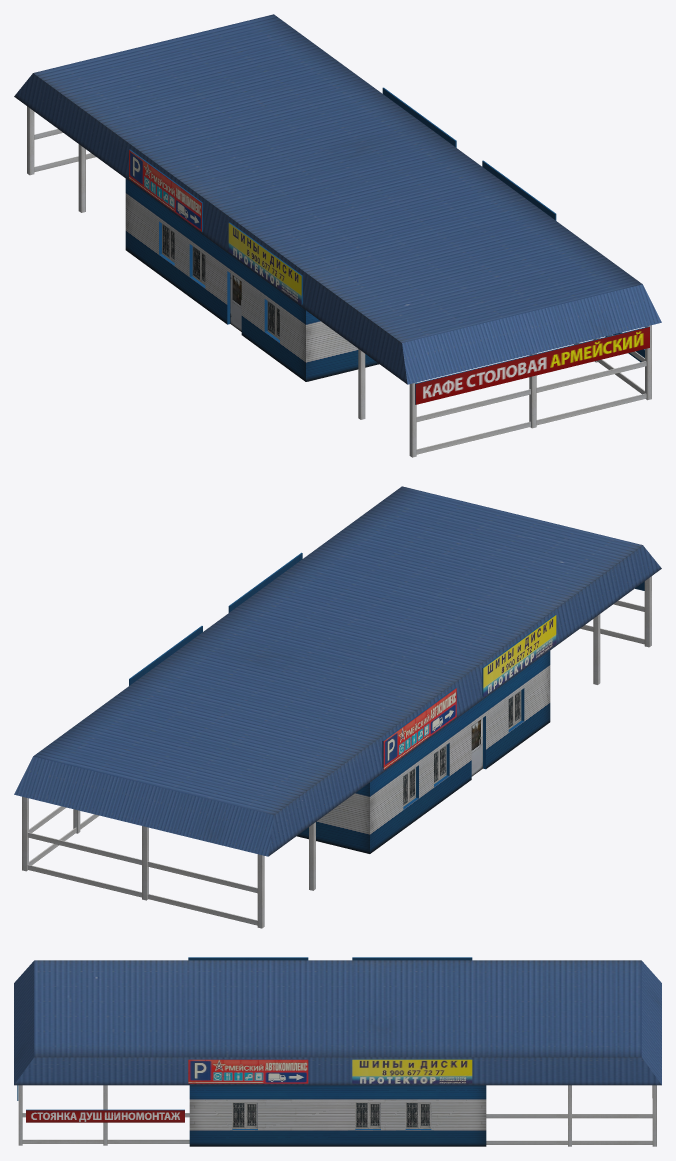
File: r254_stoyanka2.FBX
The picture shows the model from 3 angles, top to bottom: view 1: azimuth 30°, elevation 25°; view 2: azimuth 150°, elevation 25°; view 3: azimuth 270°, elevation 25°; orthographic projection. The views are drawn at different scales.
Parts seen in each view (by area): view 1: r254_stoyanka2; view 2: r254_stoyanka2; view 3: r254_stoyanka2.
Boxes of the visible parts, x1,y1,x2,y2 form: r254_stoyanka2: (14,14,661,457); r254_stoyanka2: (14,486,661,928); r254_stoyanka2: (14,957,661,1146).
Bounding box in the file's own units: 1042 × 2789 × 422.
